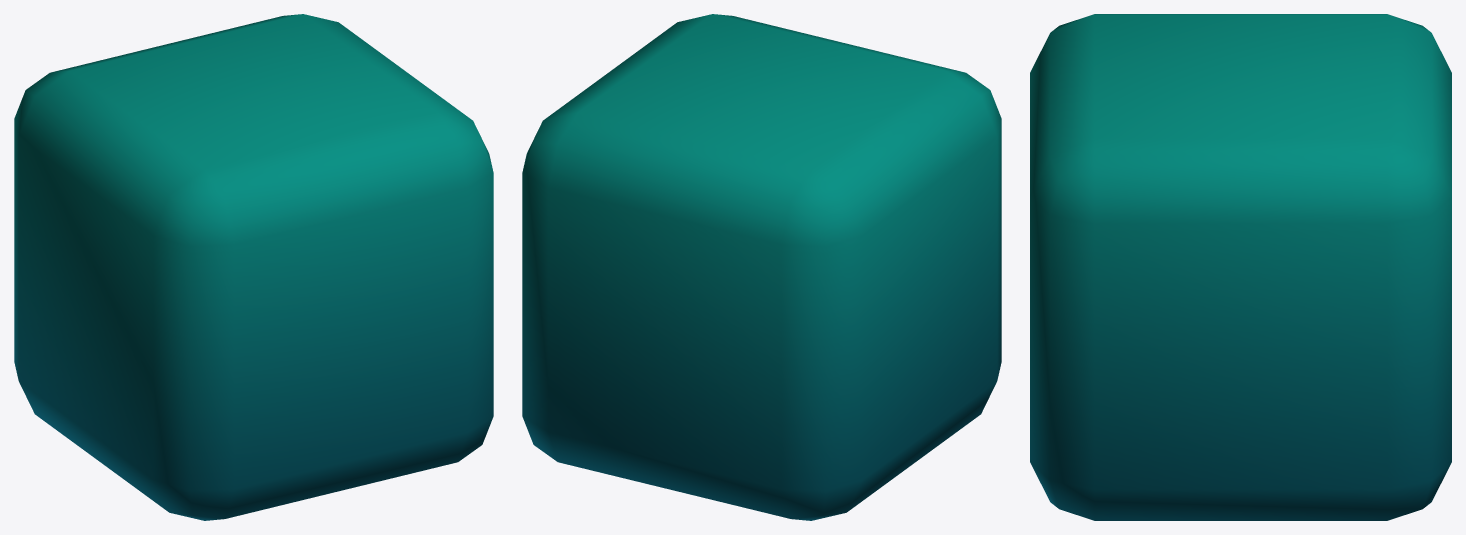
File: Bush_2_C_Color4.fbx
The picture shows the model from 3 angles, left to right: view 1: azimuth 30°, elevation 25°; view 2: azimuth 150°, elevation 25°; view 3: azimuth 270°, elevation 25°; orthographic projection. The views are drawn at different scales.
Visible parts, largest first — view 1: Bush_2_C_Color4; view 2: Bush_2_C_Color4; view 3: Bush_2_C_Color4.
Boxes of the visible parts, bbox=[...] form: Bush_2_C_Color4: bbox=[14, 14, 493, 520]; Bush_2_C_Color4: bbox=[522, 14, 1001, 520]; Bush_2_C_Color4: bbox=[1030, 14, 1451, 520].
Size of the model in its own units: 1.32 by 1.32 by 1.32.
